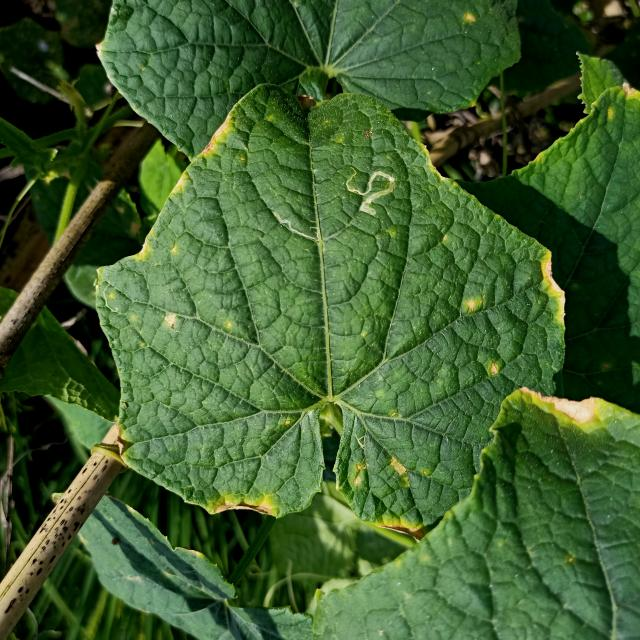disease_cucumber: (355, 449, 426, 540), (129, 232, 182, 268), (485, 358, 508, 378), (161, 311, 179, 333), (466, 292, 481, 313)
